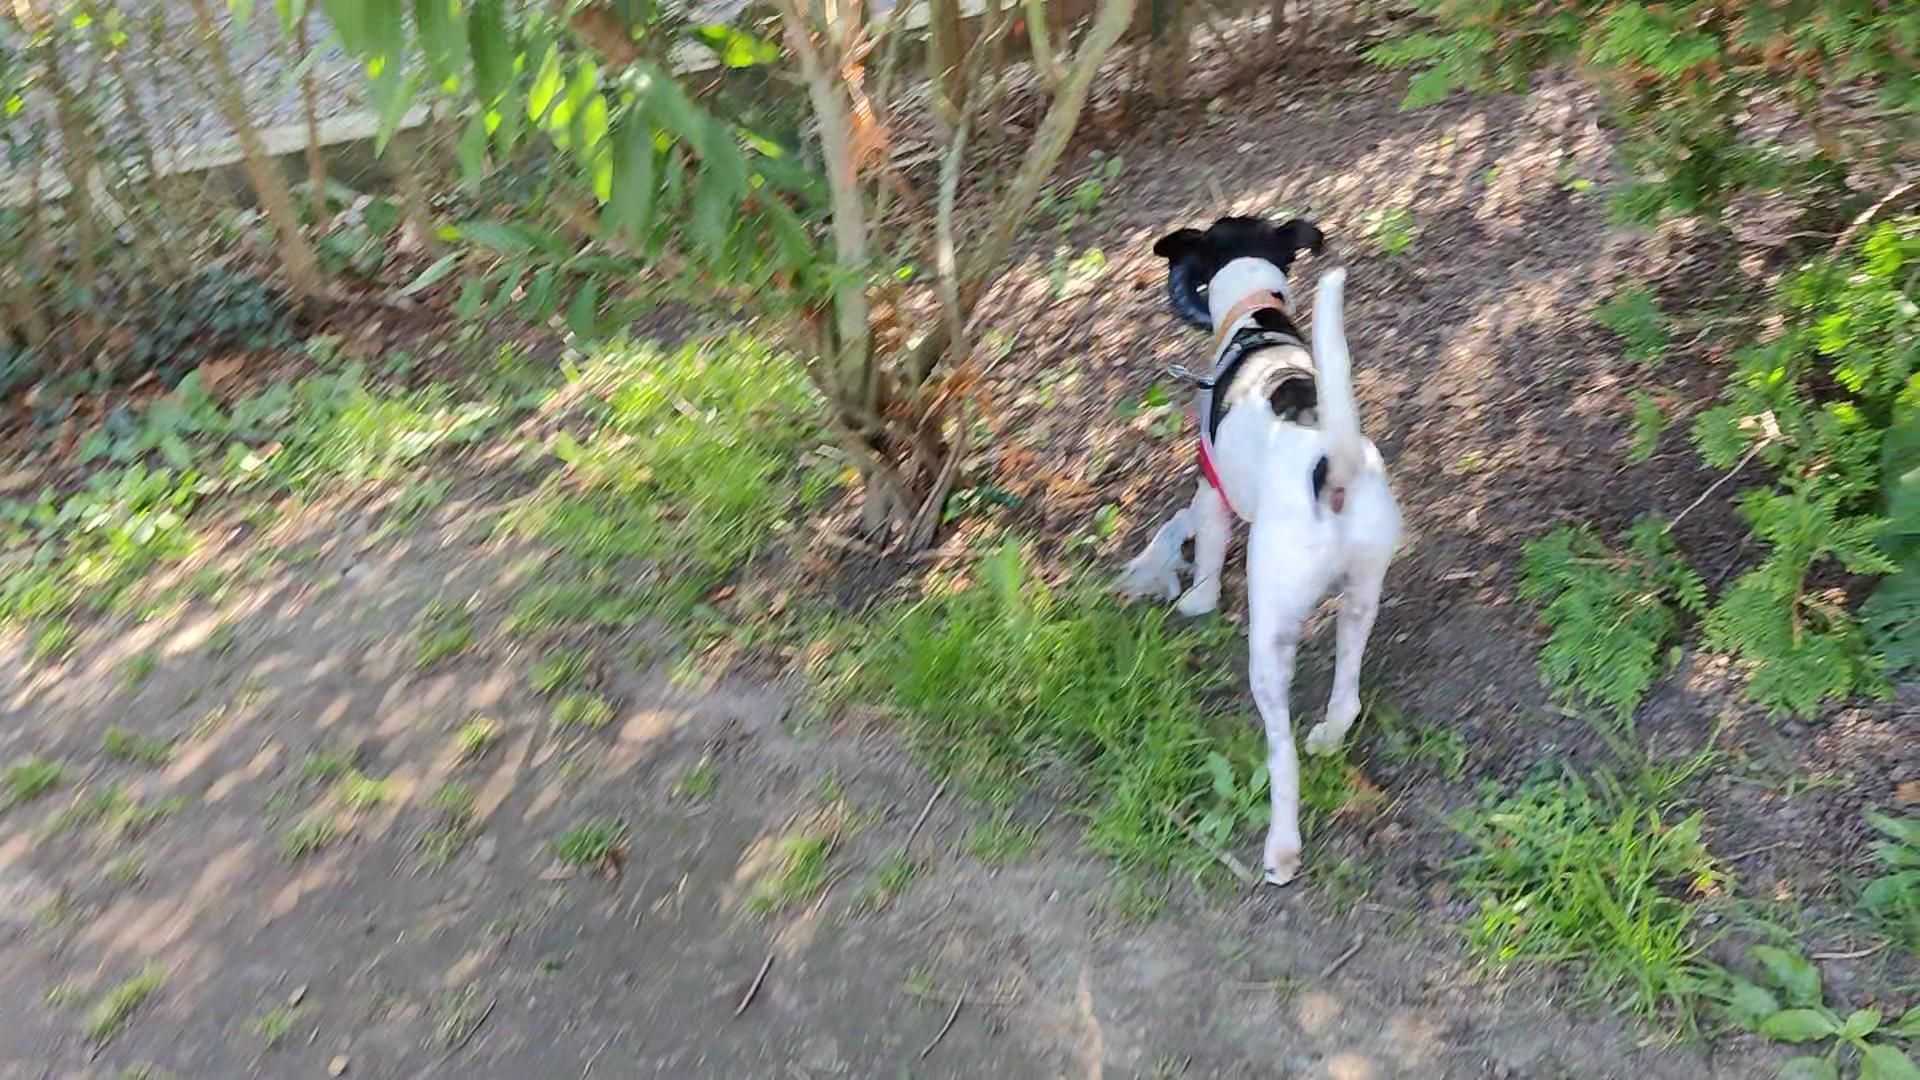Dog: (1121, 187, 1418, 897)
